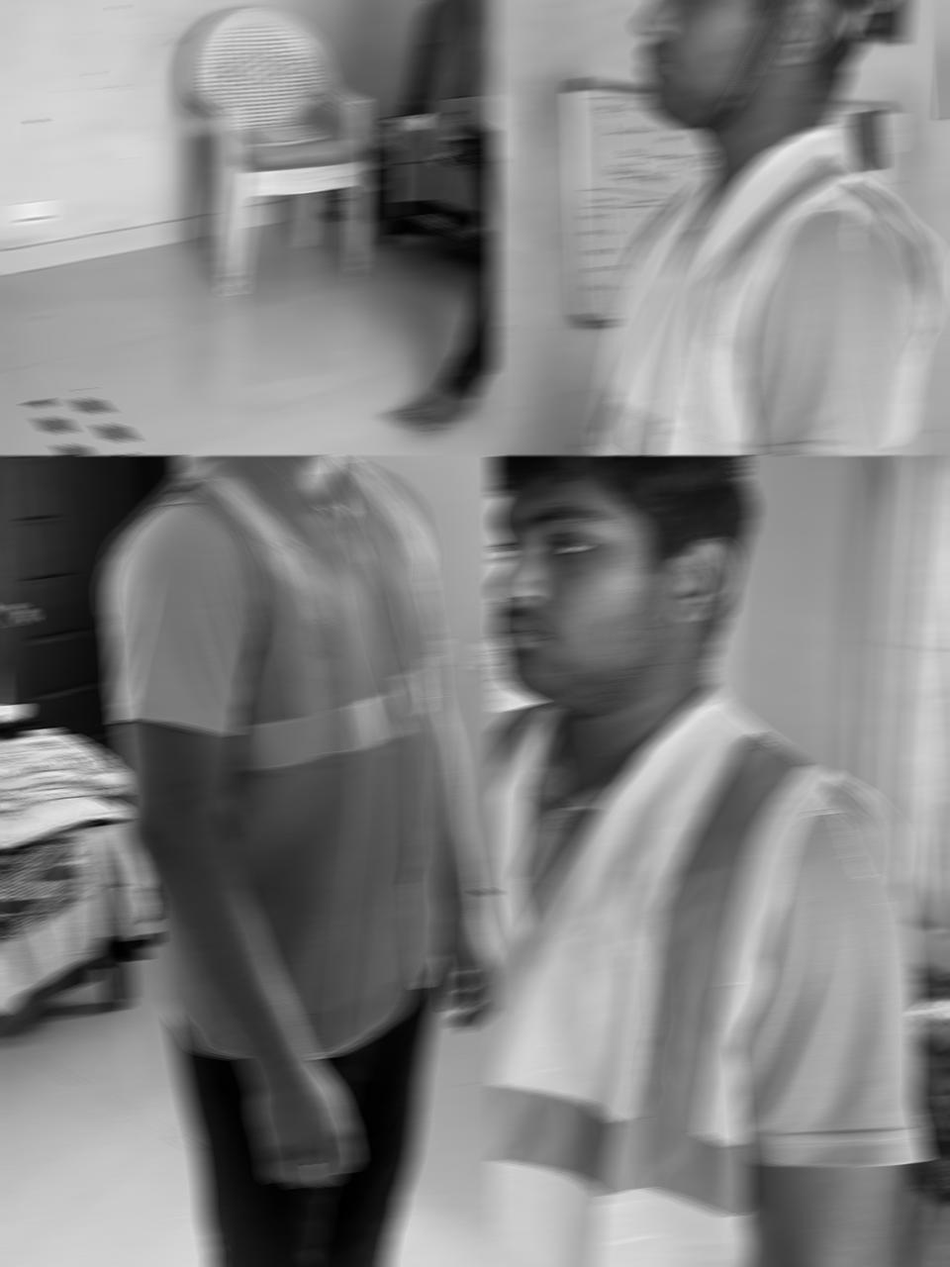BorderLine: (24, 386, 332, 455)
No_Helmet: (490, 455, 759, 719)
No_Vest: (446, 0, 497, 135)
Person: (490, 455, 930, 1267), (97, 455, 497, 1267), (541, 0, 945, 455), (396, 0, 497, 431)
Vest: (490, 690, 905, 1267), (104, 455, 447, 1059), (581, 119, 945, 455)
